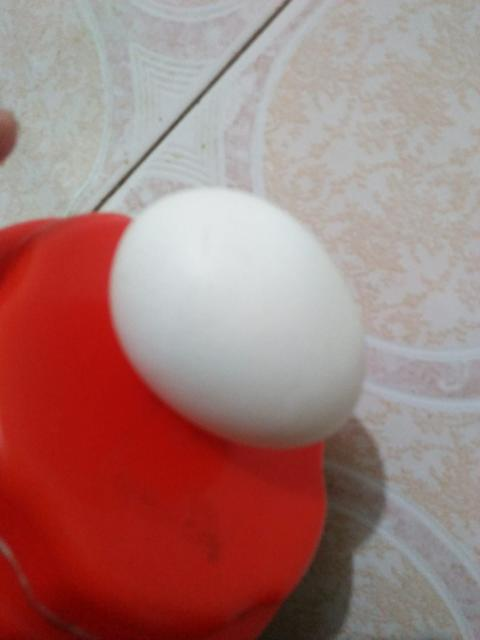Sano: (111, 183, 366, 446)
